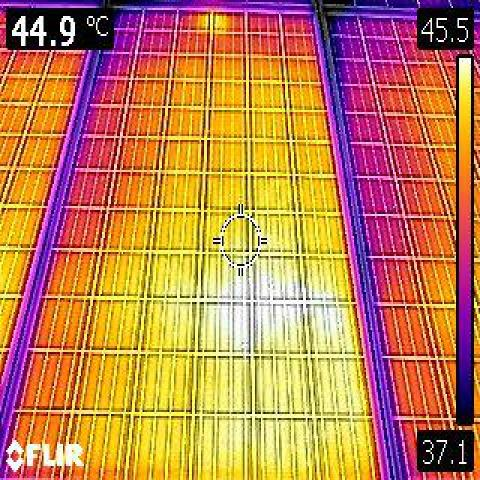fault: (200, 282, 349, 343), (200, 13, 226, 32)
